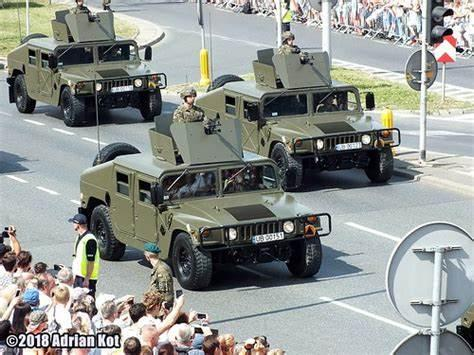armored_car: (80, 102, 334, 290), (184, 46, 402, 191), (4, 3, 168, 127)
